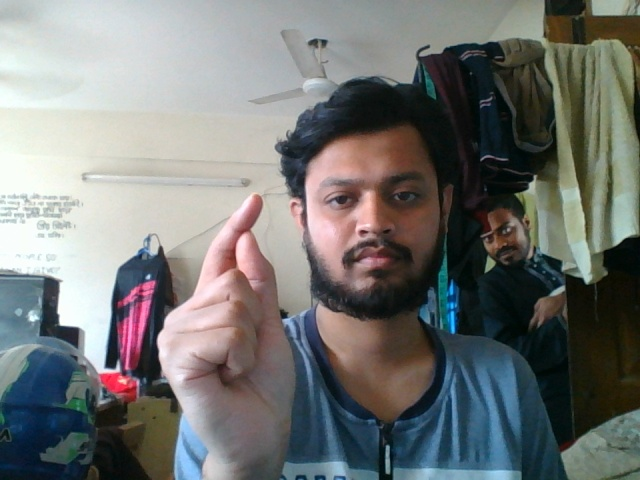tha: (153, 184, 300, 473)
